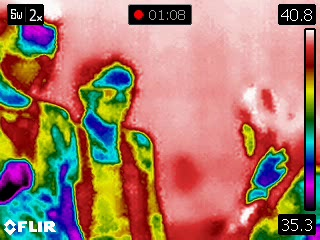human: (65, 55, 167, 240), (1, 13, 81, 240), (225, 84, 320, 240)
